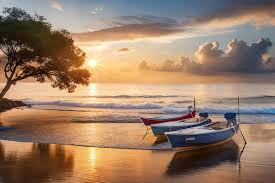boat: (165, 97, 245, 152), (141, 98, 197, 133), (152, 111, 213, 140)
